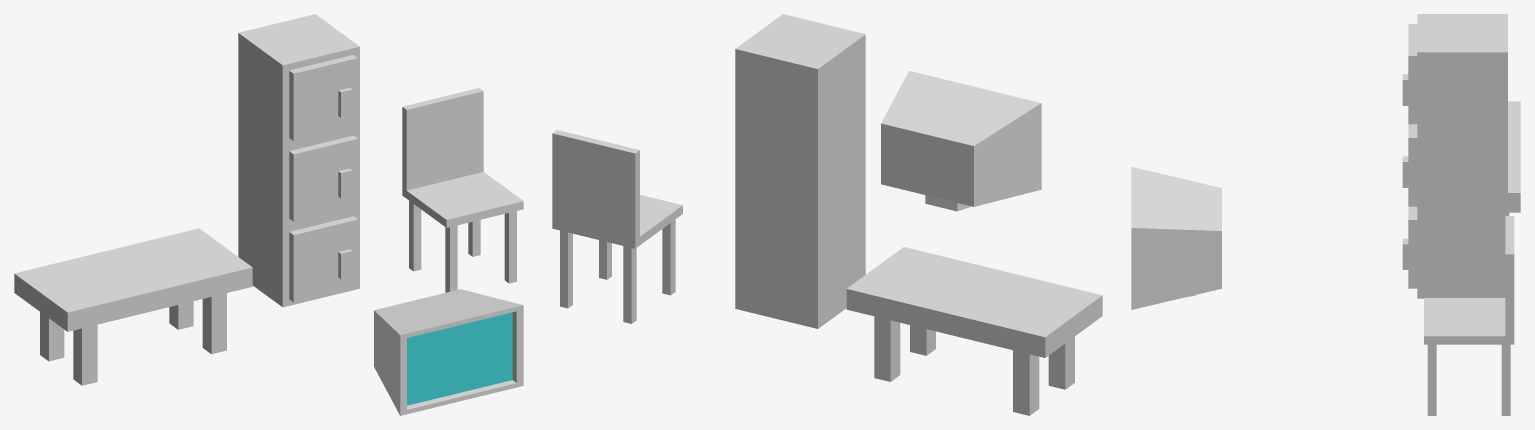
Rendered from officefps.fbx.
3 renders of one model, left to right at view 1: azimuth 30°, elevation 25°; view 2: azimuth 150°, elevation 25°; view 3: azimuth 270°, elevation 25°, orthographic. The views are drawn at different scales.
Visible parts, largest first — view 1: Fridge, table, tivi, ch; view 2: Fridge, table, tivi, ch; view 3: Fridge, tivi, ch, table.
Boxes of the visible parts, <box> form: Fridge: <box>238,14,359,307</box>; table: <box>14,228,252,385</box>; tivi: <box>374,289,523,415</box>; ch: <box>402,88,523,292</box>; Fridge: <box>735,14,865,328</box>; table: <box>846,247,1102,415</box>; tivi: <box>881,71,1041,211</box>; ch: <box>552,130,682,323</box>; Fridge: <box>1402,14,1507,298</box>; tivi: <box>1131,166,1221,309</box>; ch: <box>1424,216,1514,415</box>; table: <box>1508,101,1520,215</box>.
Bounding box in the file's own units: 1198 × 690 × 859.
